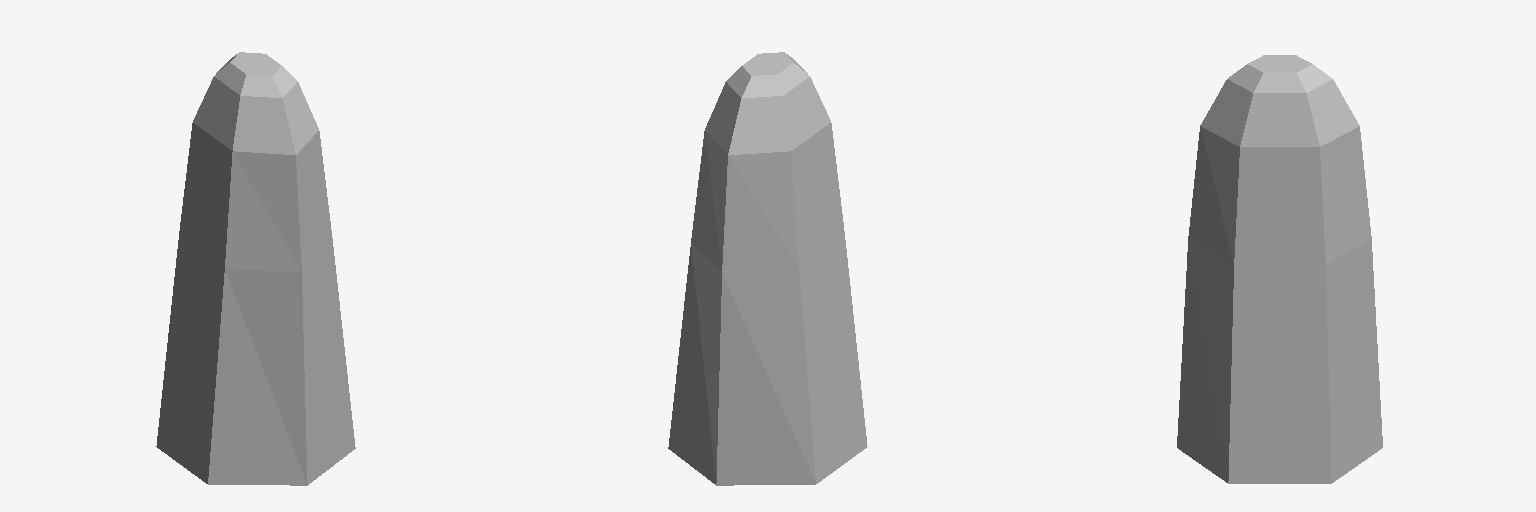
File: arm1.obj
3 renders of one model, left to right at view 1: azimuth 30°, elevation 25°; view 2: azimuth 150°, elevation 25°; view 3: azimuth 270°, elevation 25°, orthographic.
Parts seen in each view (by area): view 1: Arm; view 2: Arm; view 3: Arm.
Part boxes in pixels (x1,y1,x2,y2): Arm: (156, 52, 355, 485); Arm: (668, 52, 867, 485); Arm: (1177, 55, 1382, 483).
Size of the model in its own units: 0.3843 by 0.9541 by 0.4647.